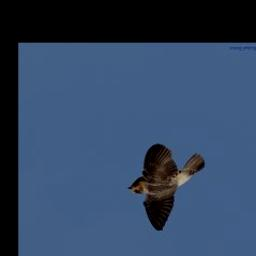Swallow: (125, 143, 207, 233)
